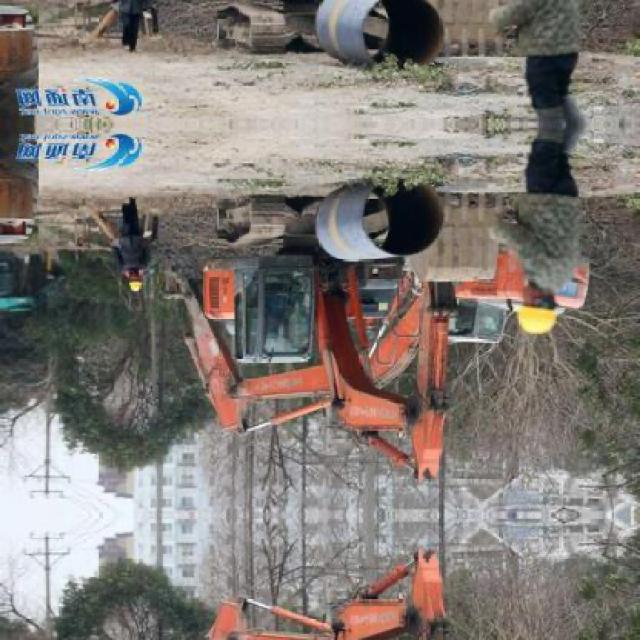con casco: (498, 288, 630, 345)
